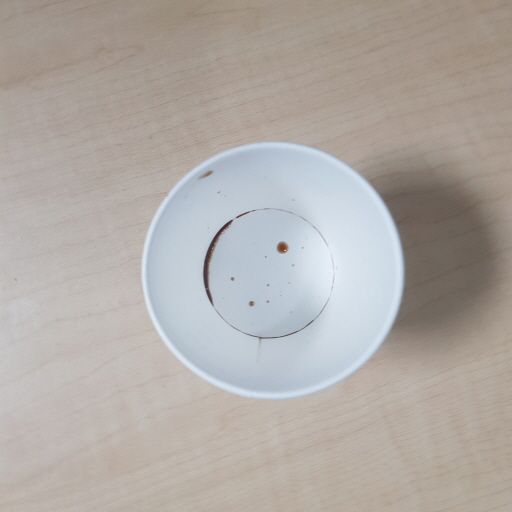Paper_1: (139, 142, 413, 395)
